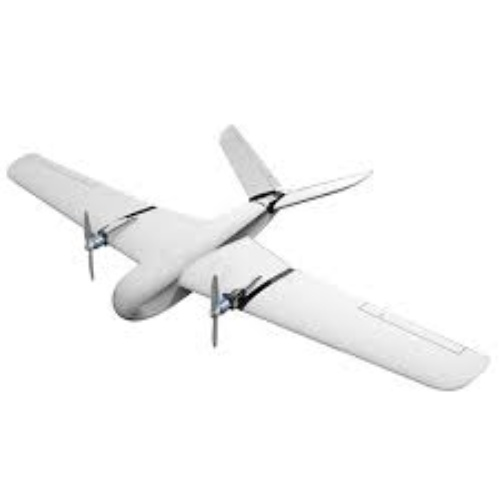uav: (9, 123, 487, 395)
